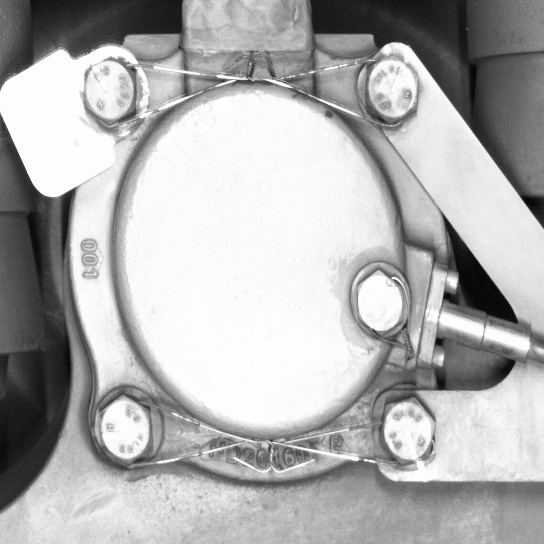IronWire: (90, 386, 442, 469), (77, 50, 426, 130)
Screw: (348, 257, 418, 341), (371, 390, 442, 468), (356, 48, 425, 128), (77, 50, 145, 131), (92, 387, 157, 471)
